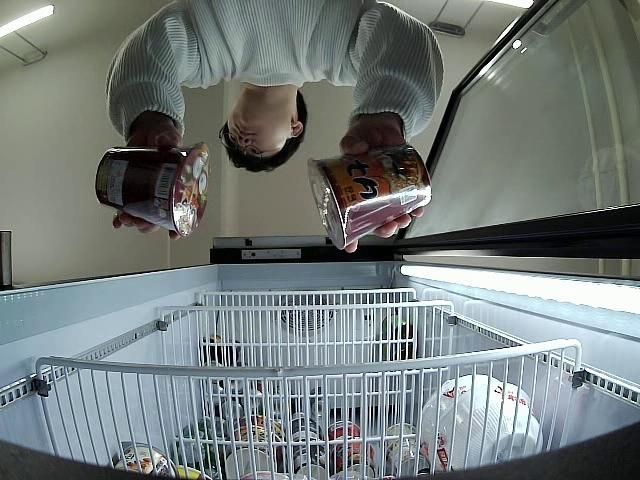06_nuguri_S: (307, 144, 433, 252), (96, 142, 211, 237)
